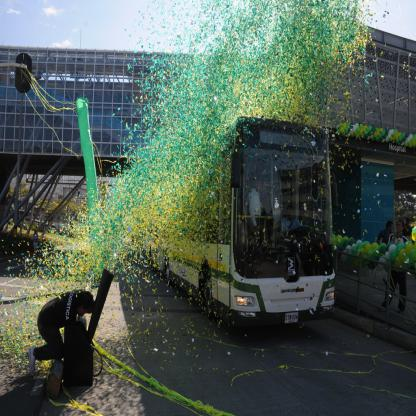Bus: (145, 113, 334, 331)
